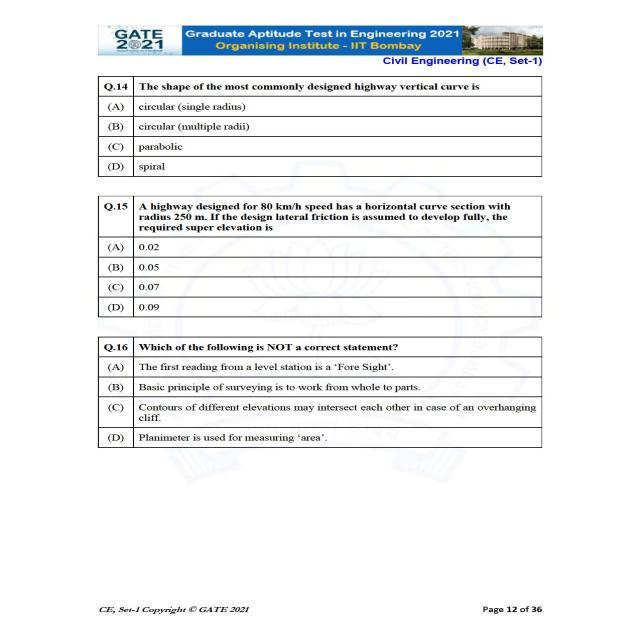Answer_Block: (98, 357, 552, 444), (96, 238, 550, 318), (92, 98, 554, 176)
Question_Answer_Block: (82, 195, 559, 332), (82, 336, 557, 460), (84, 70, 554, 190)
Question_Block: (100, 194, 560, 238), (92, 73, 554, 97), (98, 336, 559, 358)
Question_Paper_Area: (75, 64, 562, 464)
